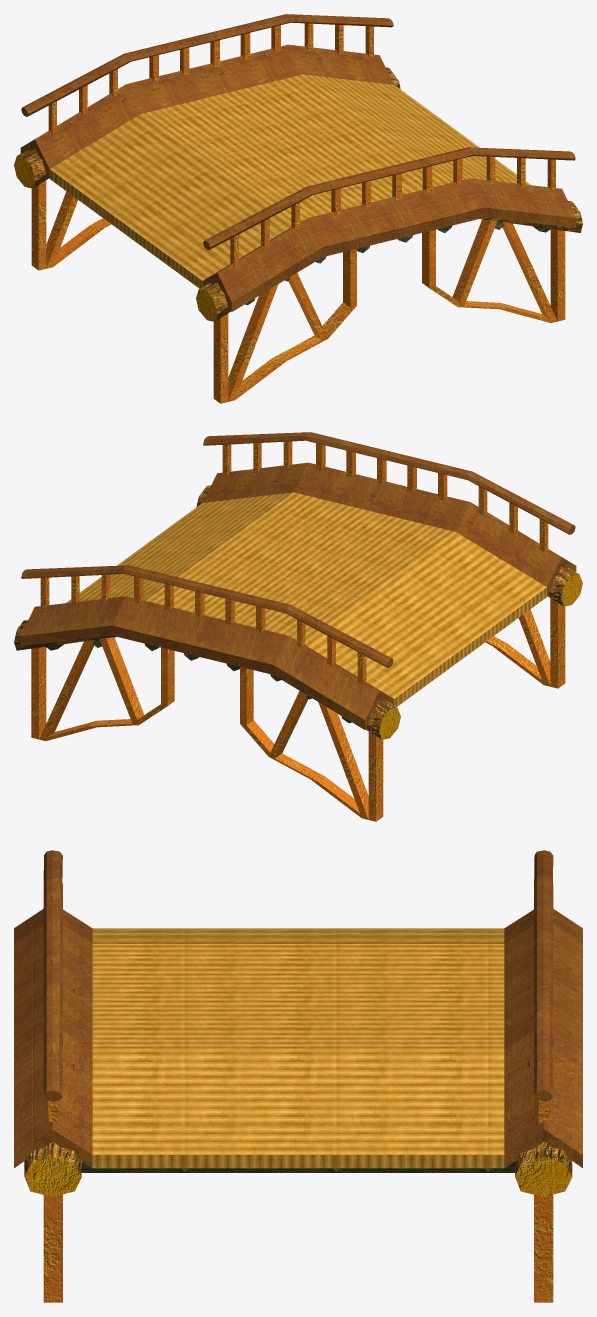
Rendered from ftbr2.glb.
3 views of the same model, one above another, from view 1: azimuth 30°, elevation 25°; view 2: azimuth 150°, elevation 25°; view 3: azimuth 270°, elevation 25° (orthographic). The views are drawn at different scales.
Visible parts, largest first — view 1: ftbr2; view 2: ftbr2; view 3: ftbr2.
Boxes of the visible parts, box(x1,y1,x2,y2) form: ftbr2: box(14, 14, 582, 403); ftbr2: box(14, 432, 582, 821); ftbr2: box(14, 850, 582, 1302).
Size of the model in its own units: 12 by 6 by 12.
Materials: 6 (6 with a texture image).
